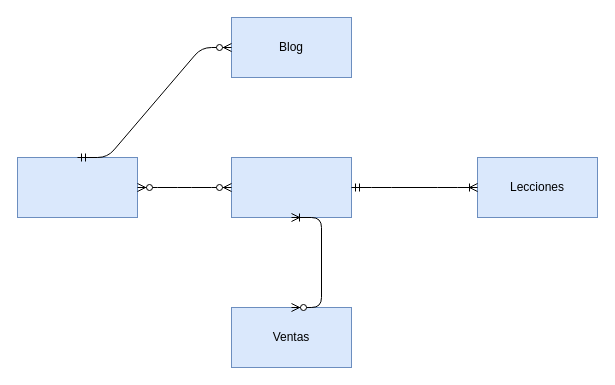
Some shapes in this 615 by 385 pixel diagram are drawn without their labels. Here are the shapes that lost their labels. From the top down, the box of each, then its label:
(16, 156, 138, 218): Usuarios
(230, 156, 352, 218): Cursos
